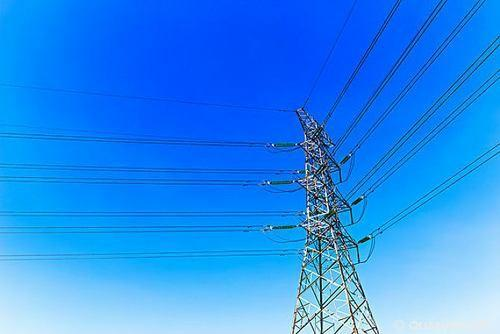power_tower: (273, 104, 385, 334)
